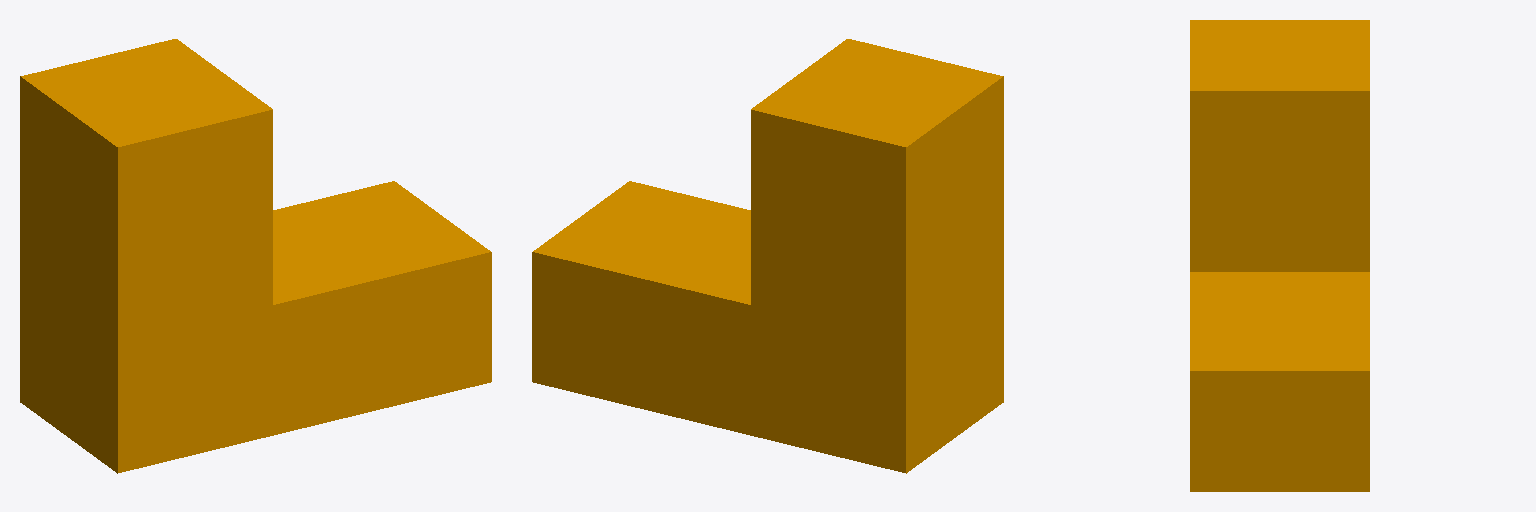
The robot description file, URDF, robot "target_box":
<?xml version="1.0" encoding="utf-8"?>
<!-- =================================================================================== -->
<!-- |    This document was autogenerated by xacro from cube.urdf.xacro               | -->
<!-- |    EDITING THIS FILE BY HAND IS NOT RECOMMENDED                                 | -->
<!-- =================================================================================== -->
<robot name="target_box">
  <link name="target_link">
    <visual>
      <origin rpy="0 0 0" xyz="0 0 0" />
      <geometry>
        <mesh filename="package://grf_transport/models/l_shaped_prism/l_shaped_prism.stl" scale="1.0 1.0 1.0" />
      </geometry>
    </visual>
    <inertial>
      <origin xyz="0 0 0" rpy="0 0 0" />
      <mass value="0.3" />
      <inertia ixx="0.001700" ixy="0.0" ixz="0.0" iyy="0.001700" iyz="0.0" izz="0.001700" />
    </inertial>
  </link>
  
  <gazebo reference="target_link">
    <static>true</static>
    <gravity>false</gravity>
    <!-- <selfCollide>true</selfCollide> -->
    <material>Gazebo/GreenTransparent</material>
  </gazebo>
</robot>

--- Render facts (derived) ---
3 views of the same robot in one strip: view 1: azimuth 30°, elevation 25°; view 2: azimuth 150°, elevation 25°; view 3: azimuth 270°, elevation 25° (orthographic).
Robot: target_box — 1 links, 0 joints (none); root link target_link; default pose: every joint at zero.
Visible links, largest first — view 1: target_link; view 2: target_link; view 3: target_link.
Boxes of the visible links, x1,y1,x2,y2 form: target_link: [20, 39, 491, 473]; target_link: [532, 39, 1003, 473]; target_link: [1190, 20, 1369, 491].
Size in the robot's own frame: 600 by 270 by 500 metres.
1 mesh visuals loaded from 1 distinct referenced files (1 binary STL).